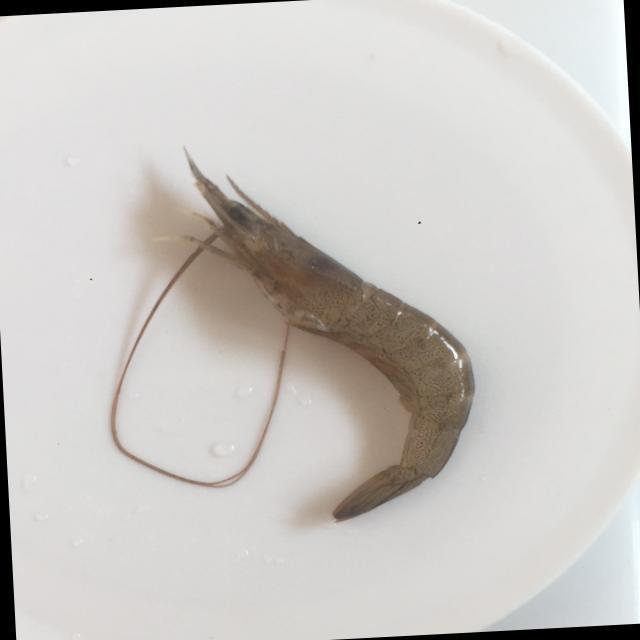shrimp: (186, 152, 475, 521)
